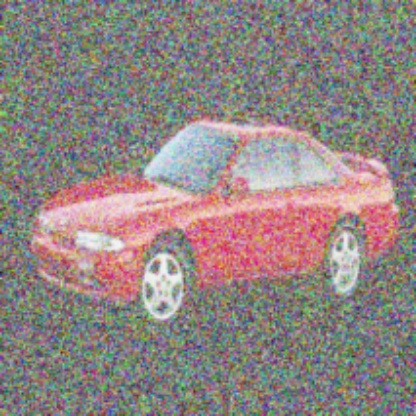Vehicle: (32, 121, 402, 335)
